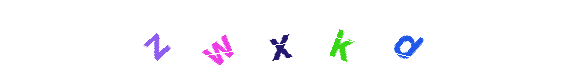D: (364, 0, 444, 80)
K: (300, 0, 380, 80)
W: (240, 0, 320, 80)
X: (252, 0, 332, 80)
Z: (166, 0, 246, 80)
